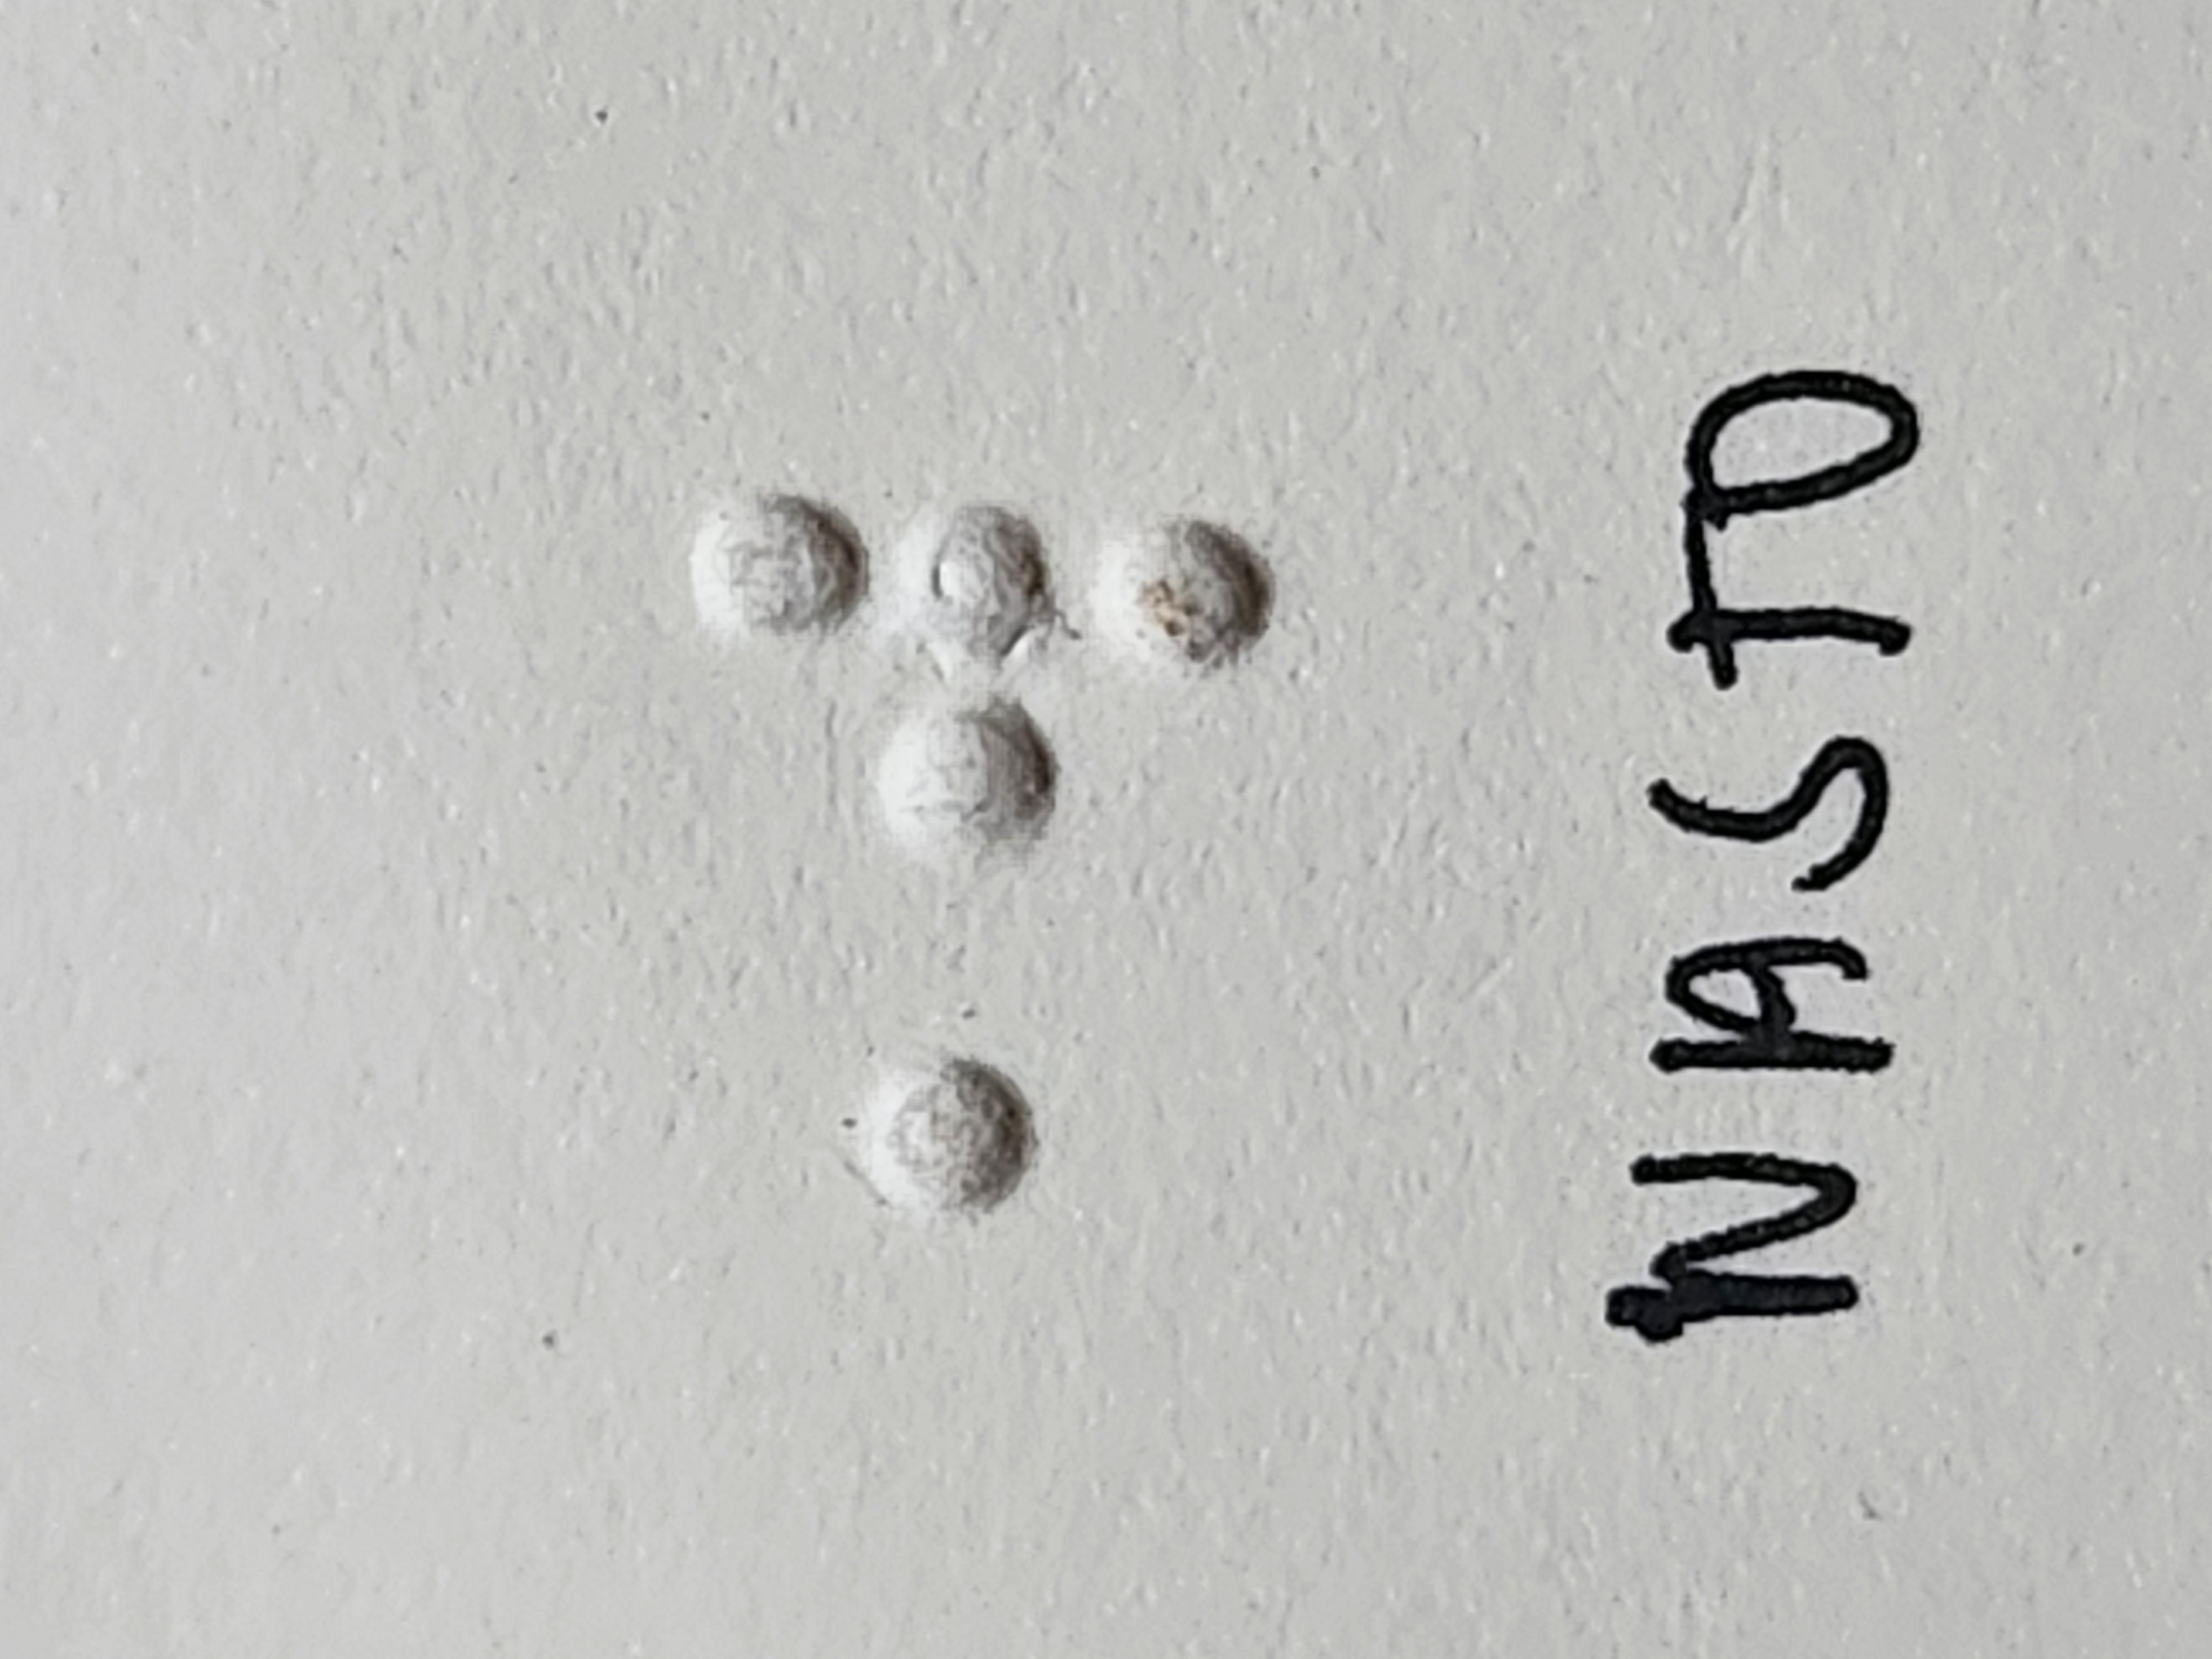dot_5: (296, 518, 820, 967)
two_cell_alphabet_wasto: (1035, 511, 1557, 962)
